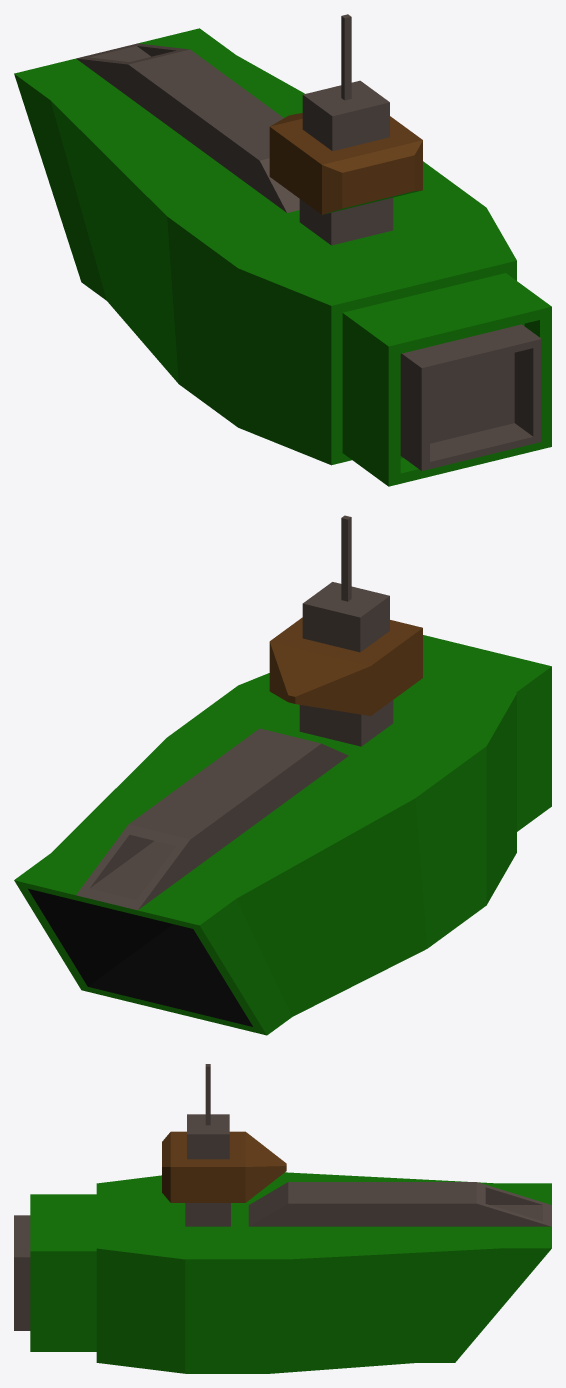
The model's file is carrier.fbx.
3 renders of one model, top to bottom at view 1: azimuth 30°, elevation 25°; view 2: azimuth 150°, elevation 25°; view 3: azimuth 270°, elevation 25°, orthographic. The views are drawn at different scales.
Parts seen in each view (by area): view 1: Cube.047; view 2: Cube.047; view 3: Cube.047.
Boxes of the visible parts, left/top/right/bottom form: Cube.047: left=14, top=14, right=551, bottom=486; Cube.047: left=14, top=515, right=551, bottom=1035; Cube.047: left=14, top=1064, right=551, bottom=1373.
Size of the model in its own units: 720 by 1100 by 1882.
